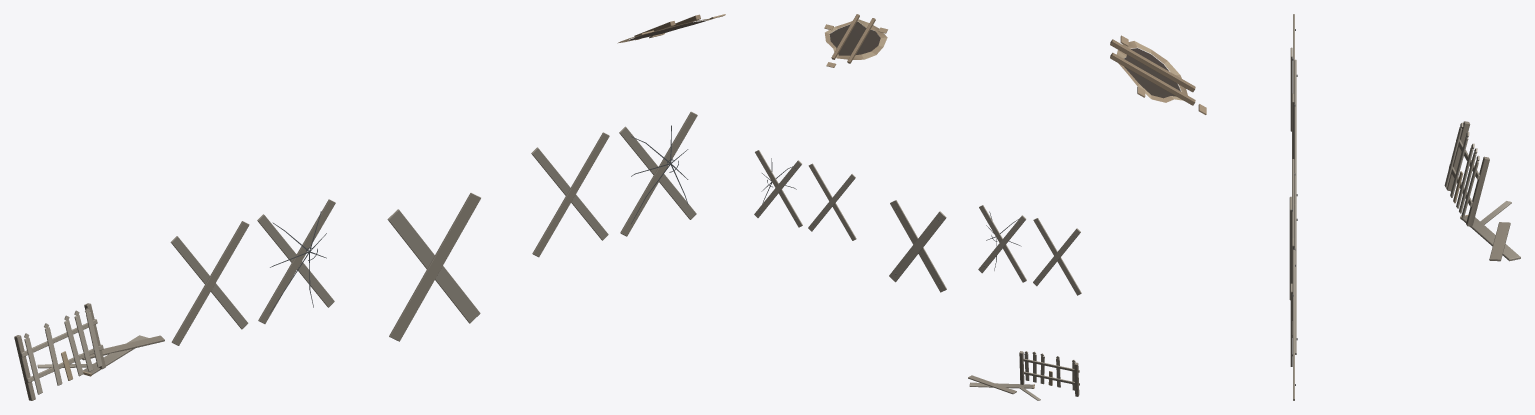
The model's file is house_broken_manor.glb.
3 views of the same model, side by side, from view 1: azimuth 30°, elevation 25°; view 2: azimuth 150°, elevation 25°; view 3: azimuth 270°, elevation 25° (orthographic). The views are drawn at different scales.
Bounding box in the file's own units: 9.65 × 5.77 × 5.3.
